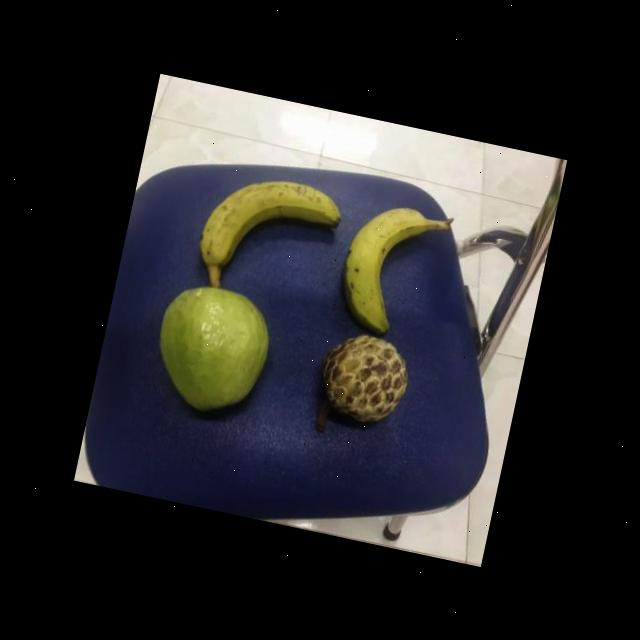Sakya fruit: (312, 324, 417, 431)
banana: (188, 166, 350, 302), (329, 192, 446, 344)
guava: (140, 272, 290, 426)
